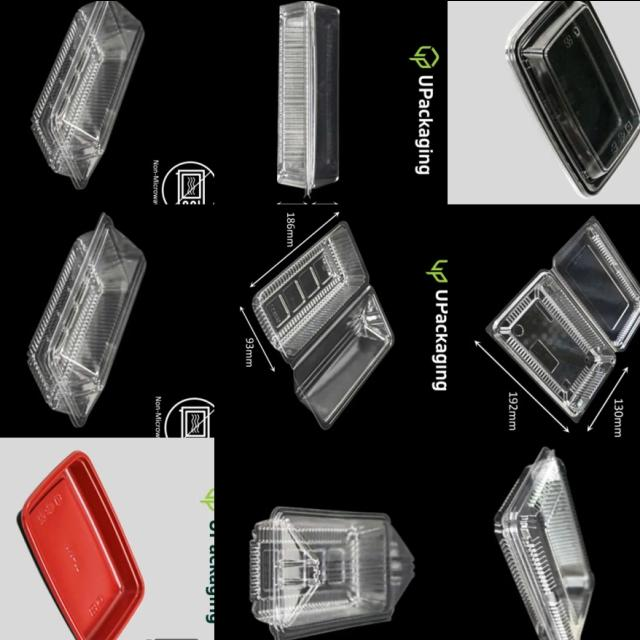plastik: (486, 217, 640, 421), (252, 220, 394, 428), (507, 0, 640, 194), (28, 213, 146, 425), (20, 450, 145, 640), (251, 506, 414, 640), (32, 0, 144, 187), (495, 446, 595, 640), (278, 0, 339, 193)
